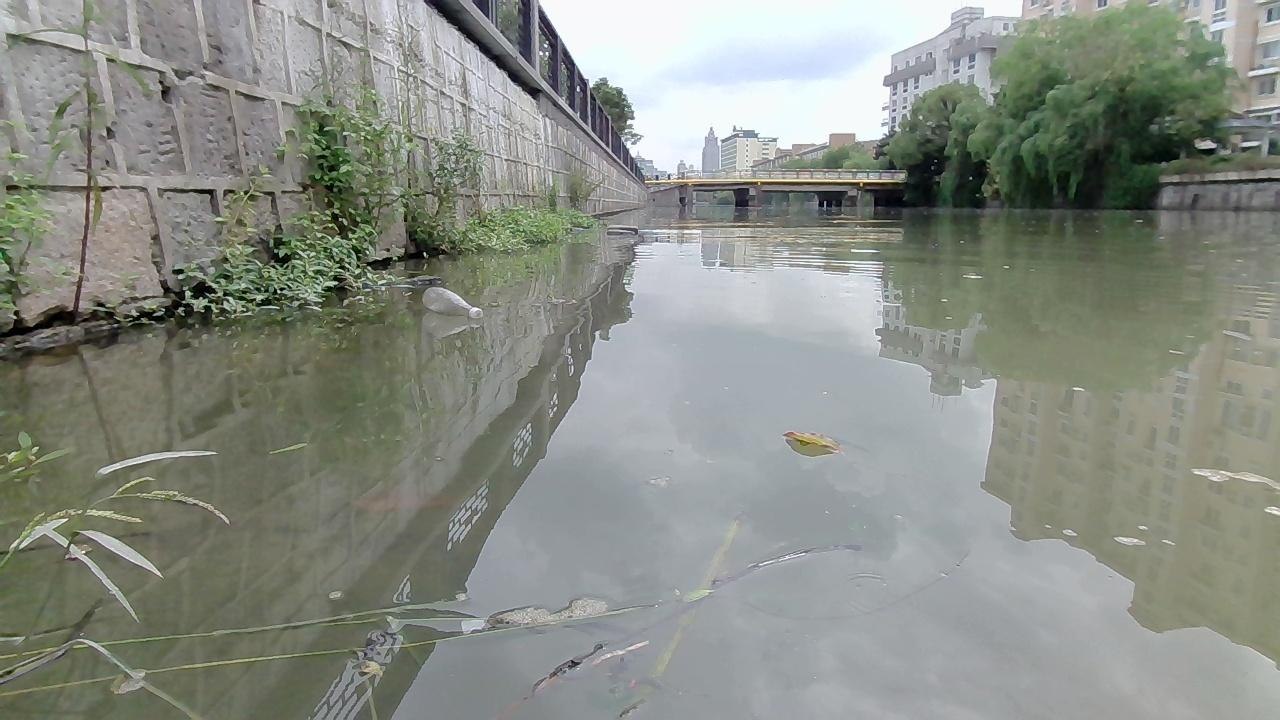bottle: (420, 283, 484, 321)
